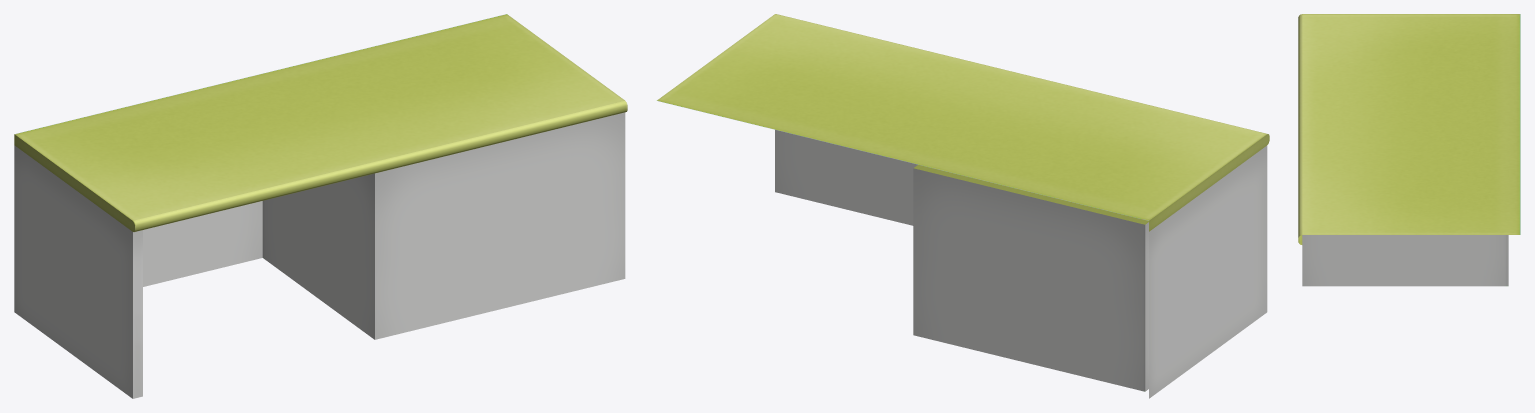
File: table.FBX
The picture shows the model from 3 angles, left to right: view 1: azimuth 30°, elevation 25°; view 2: azimuth 150°, elevation 25°; view 3: azimuth 270°, elevation 25°; orthographic projection. The views are drawn at different scales.
Parts seen in each view (by area): view 1: table최종; view 2: table최종; view 3: table최종.
Boxes of the visible parts, x1=… form: table최종: x1=14, y1=14, x2=627, y2=398; table최종: x1=657, y1=14, x2=1269, y2=398; table최종: x1=1298, y1=14, x2=1520, y2=286.
Size of the model in its own units: 281 by 97 by 119.
